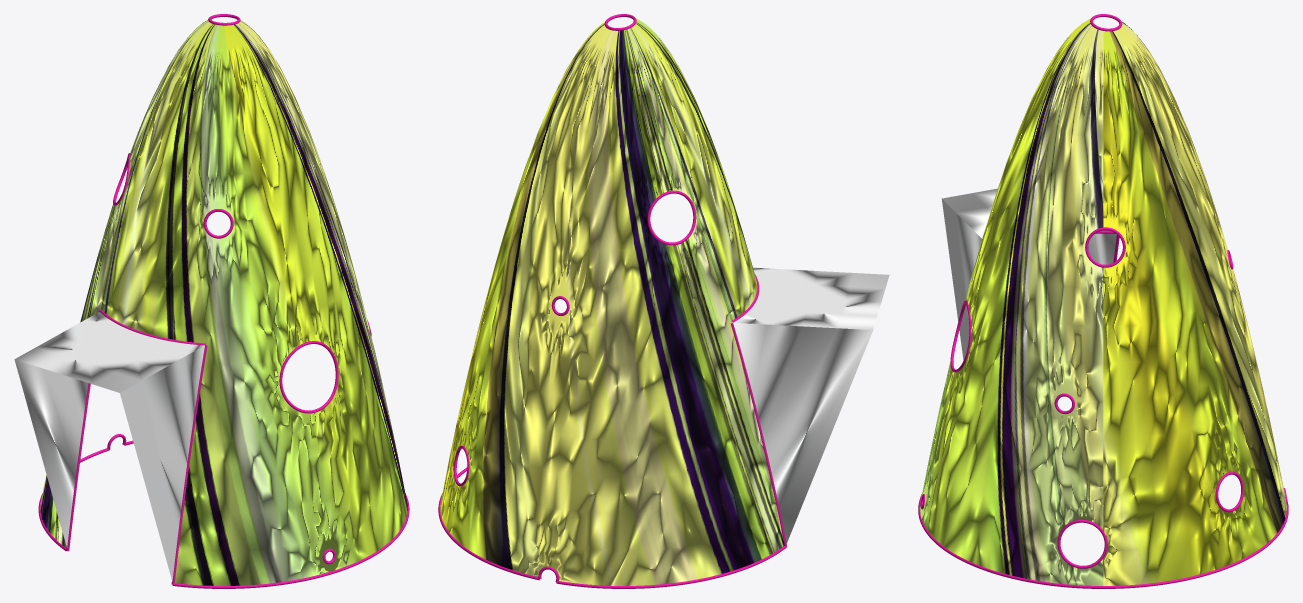
The picture shows the model from 3 angles, left to right: view 1: azimuth 30°, elevation 25°; view 2: azimuth 150°, elevation 25°; view 3: azimuth 270°, elevation 25°; orthographic projection.
Visible parts, largest first — view 1: Solids, Canopy_2, Solids_2, Canopy, Openings; view 2: Solids, Canopy_2, Solids_2, Openings; view 3: Solids, Solids_2, Openings, Canopy_2, Canopy.
Boxes of the visible parts, x1,y1,x2,y2 form: Solids: (40, 19, 407, 585); Canopy_2: (15, 312, 204, 581); Solids_2: (40, 23, 406, 585); Canopy: (14, 359, 88, 547); Openings: (38, 14, 409, 588); Solids: (440, 18, 784, 585); Canopy_2: (731, 267, 889, 543); Solids_2: (441, 23, 784, 585); Openings: (438, 14, 786, 588); Solids: (920, 18, 1286, 585); Solids_2: (920, 21, 1286, 585); Openings: (918, 14, 1288, 588); Canopy_2: (941, 188, 1107, 360); Canopy: (1088, 233, 1116, 264).
Bounding box in the file's own units: 8.97 × 10.82 × 7.38.
3 materials, 3 textured.
